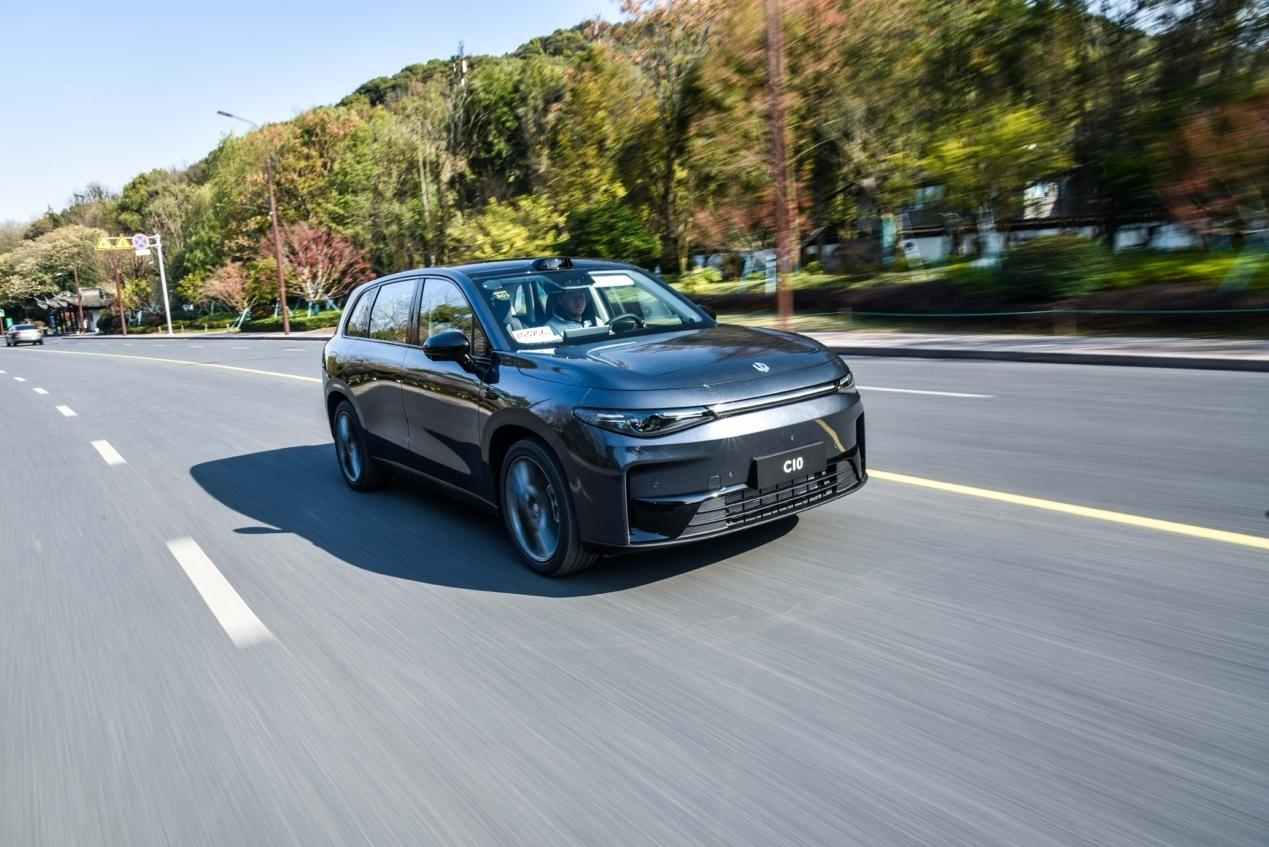LEAPMOTOR: (751, 360, 770, 373)
